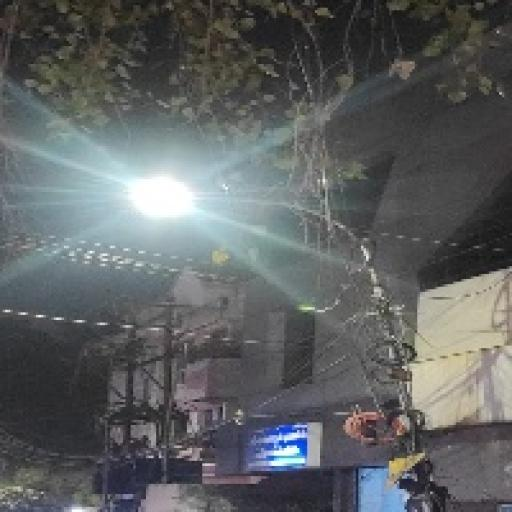Working: (110, 163, 234, 234)
